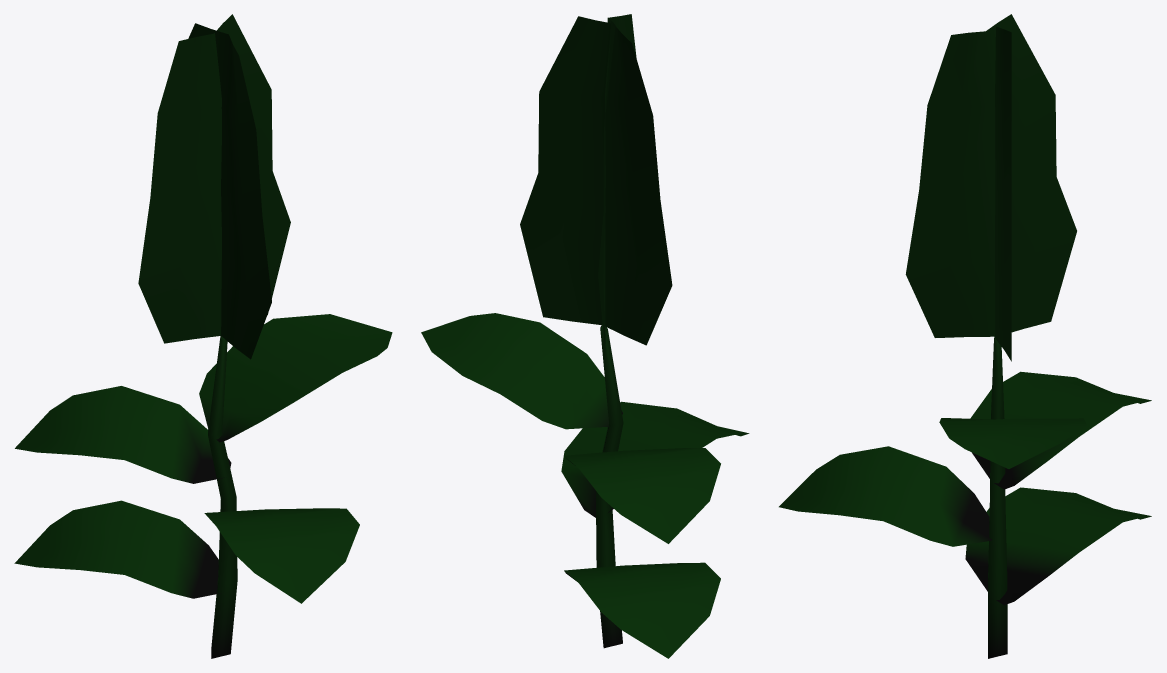
The model's file is plant3.fbx.
3 renders of one model, left to right at view 1: azimuth 30°, elevation 25°; view 2: azimuth 150°, elevation 25°; view 3: azimuth 270°, elevation 25°, orthographic.
Parts seen in each view (by area): view 1: branch_xt15_xp25, leaf.001_xt19_xp27, leaf.003_xt27_xp19, leaf.002_xt15_xp19, leaf_xt29_xp15; view 2: branch_xt15_xp25, leaf.003_xt27_xp19, leaf.002_xt15_xp19, leaf.001_xt19_xp27, leaf_xt29_xp15; view 3: branch_xt15_xp25, leaf_xt29_xp15, leaf.001_xt19_xp27, leaf.002_xt15_xp19, leaf.003_xt27_xp19.
Boxes of the visible parts, box(x1,y1,x2,y2) form: branch_xt15_xp25: box(138, 14, 290, 658); leaf.001_xt19_xp27: box(14, 500, 221, 598); leaf.003_xt27_xp19: box(199, 314, 392, 442); leaf.002_xt15_xp19: box(15, 386, 231, 483); leaf_xt29_xp15: box(204, 508, 359, 603); branch_xt15_xp25: box(520, 14, 672, 648); leaf.003_xt27_xp19: box(421, 313, 622, 429); leaf.002_xt15_xp19: box(564, 448, 720, 543); leaf.001_xt19_xp27: box(564, 562, 720, 658); leaf_xt29_xp15: box(561, 401, 749, 517); branch_xt15_xp25: box(905, 14, 1076, 658); leaf_xt29_xp15: box(779, 446, 992, 546); leaf.001_xt19_xp27: box(965, 487, 1151, 605); leaf.002_xt15_xp19: box(970, 371, 1151, 489); leaf.003_xt27_xp19: box(939, 418, 1086, 468).
Size of the model in its own units: 71 by 132 by 70.84.
